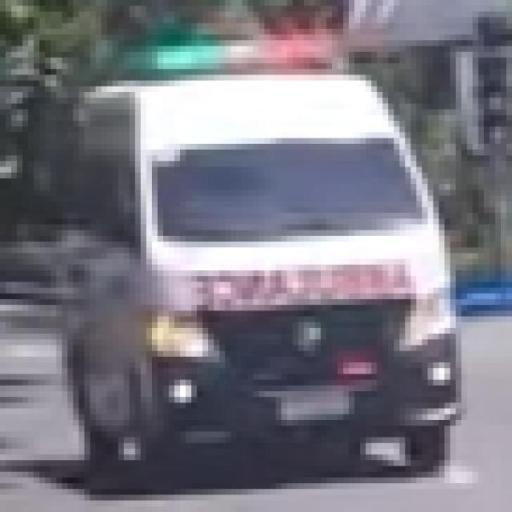Police car: (51, 40, 461, 478)
